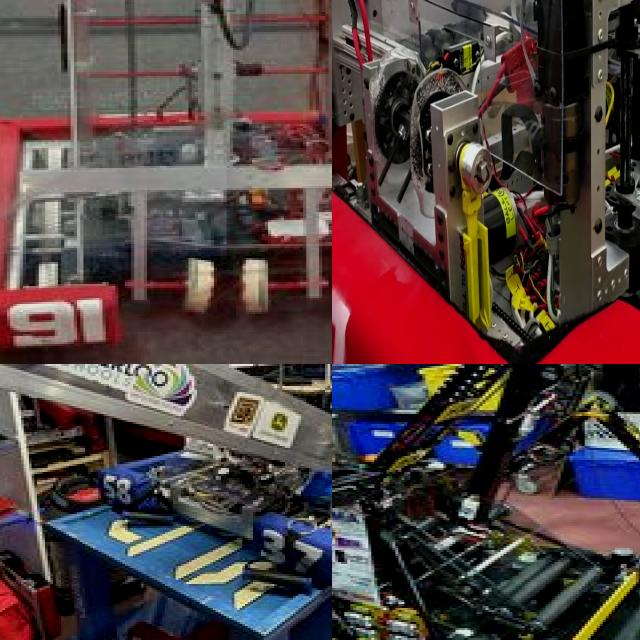FRC-Robots: (0, 0, 332, 364), (332, 0, 640, 364), (0, 364, 332, 640), (332, 364, 640, 640)
